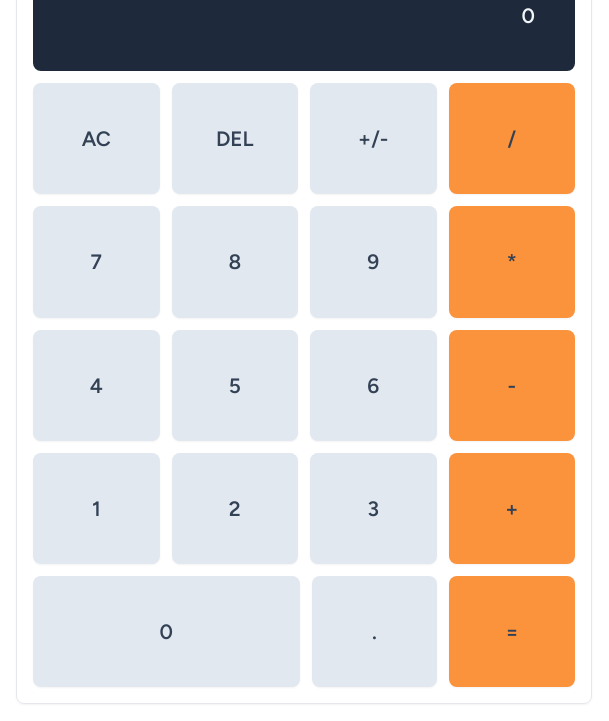
Scenario: App component › should handle addition correctly
(page scrolled)
Click the button "1".
click(96, 508)  # box [33,453,160,564]
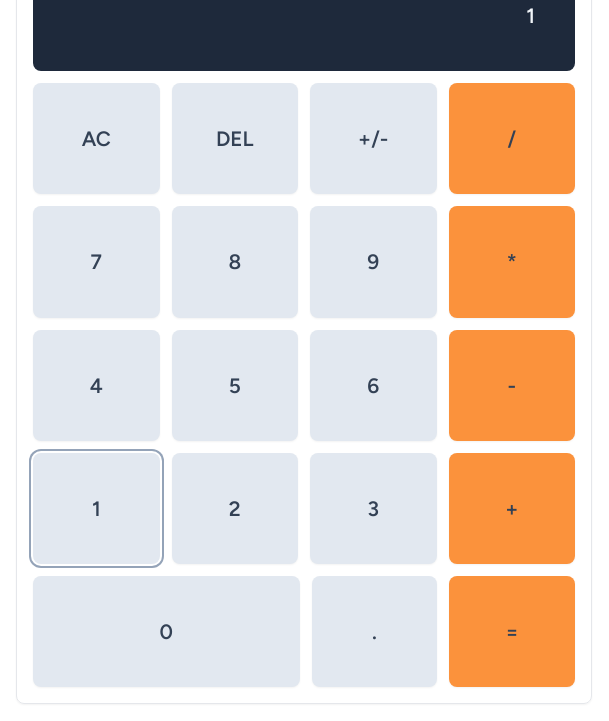
Click the button "+/-".
click(373, 139)  # box [310,83,436,194]
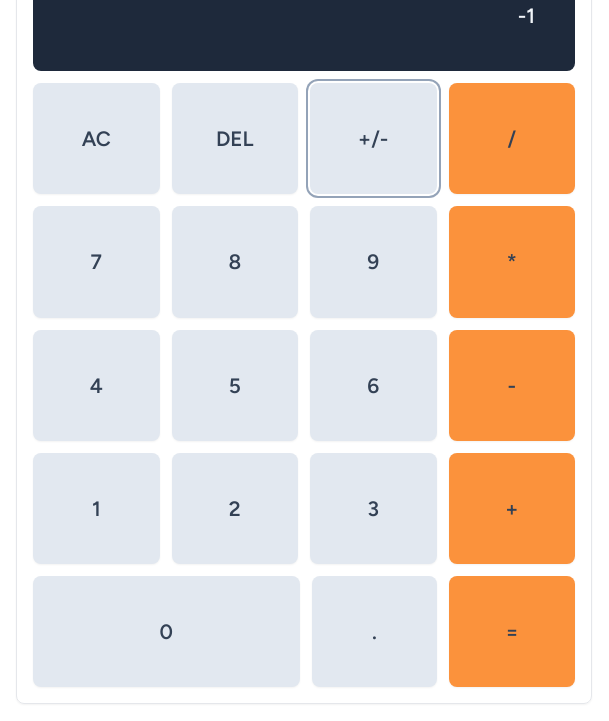
Click the button "+".
click(512, 508)  # box [448,453,575,564]
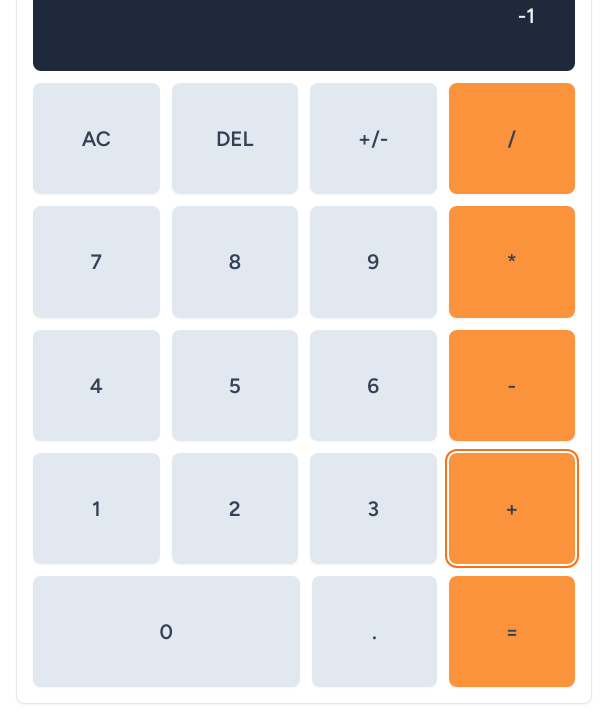
Click the button "2".
click(235, 508)  # box [172,453,298,564]
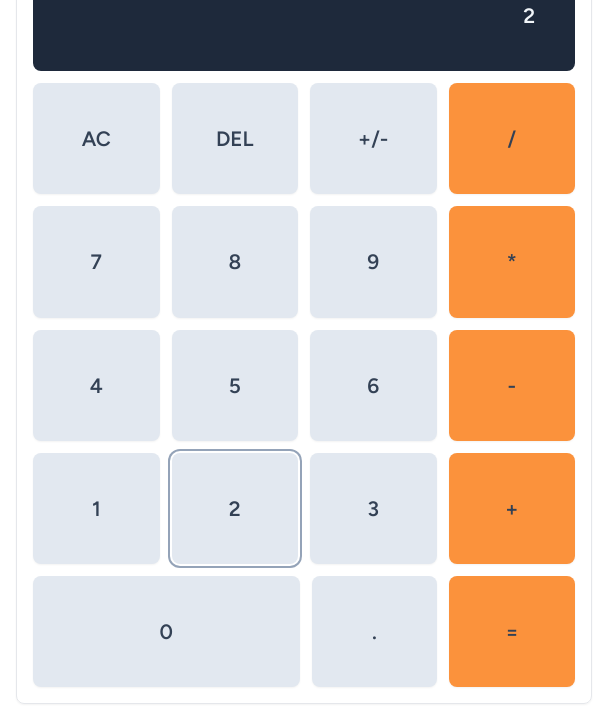
Click the button "=".
click(512, 632)  # box [449,576,575,687]
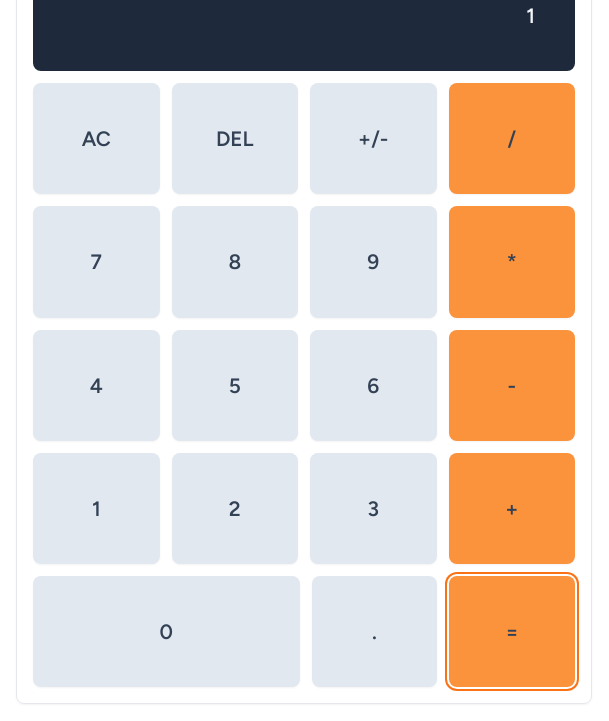
Now the text with test id "displayNumber" reads "1", box [526,3,535,28]
